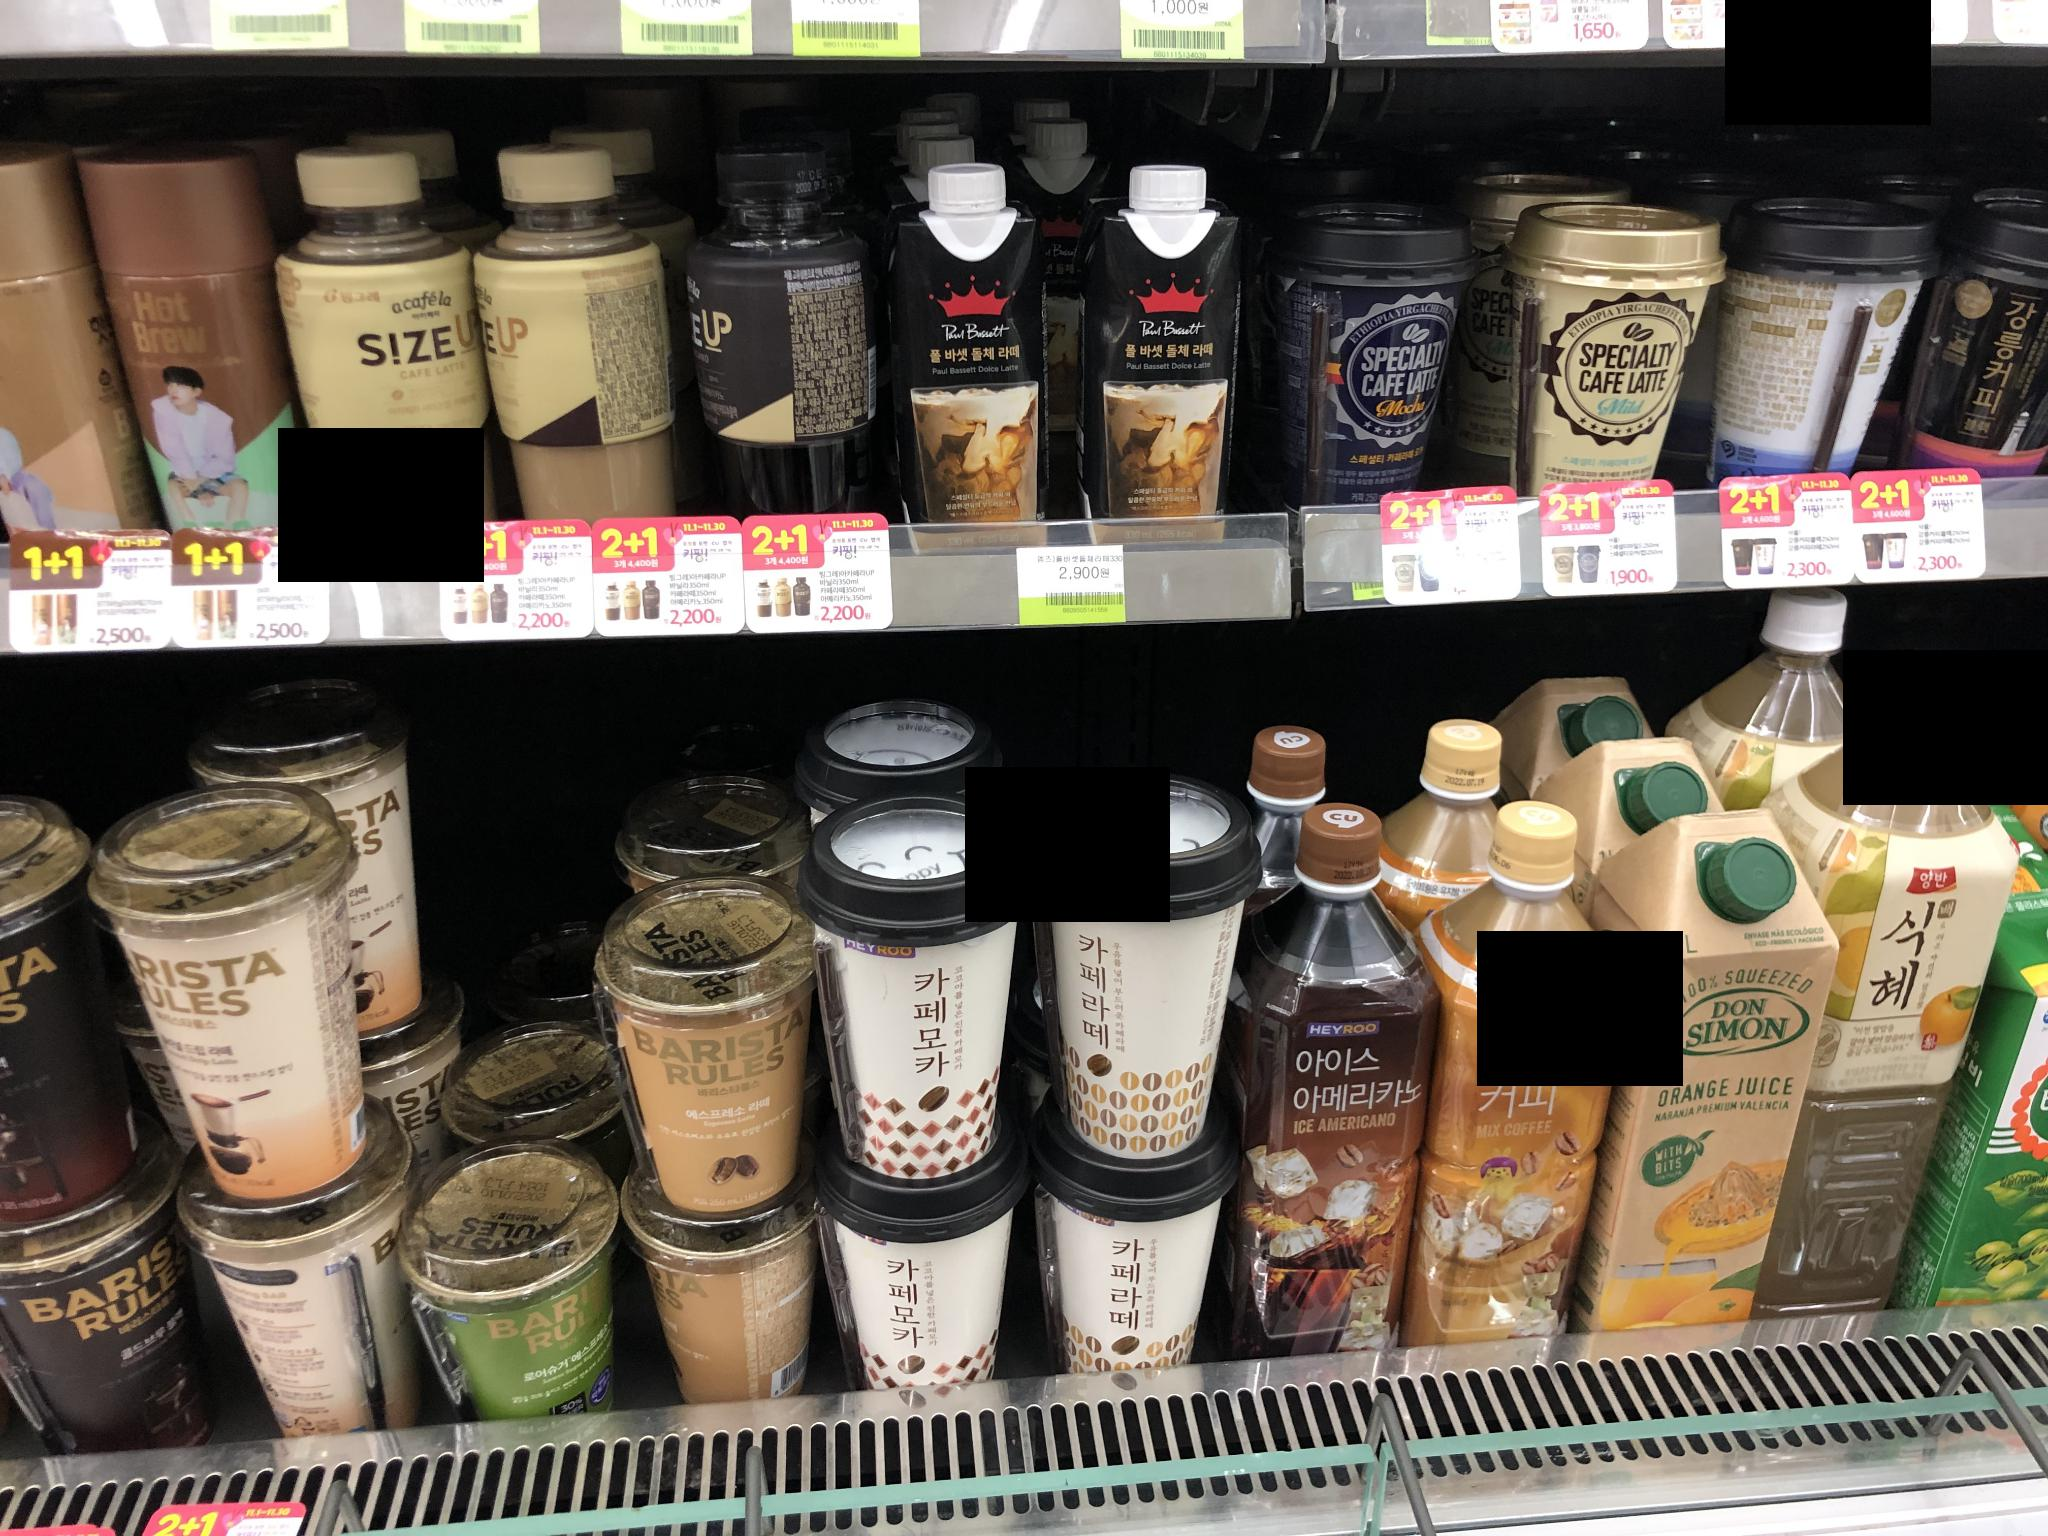baristarules_espressolatte: (581, 884, 818, 1204), (597, 1173, 853, 1433)
